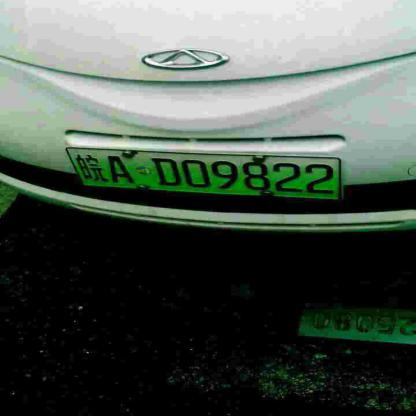lp: (66, 148, 340, 201)
